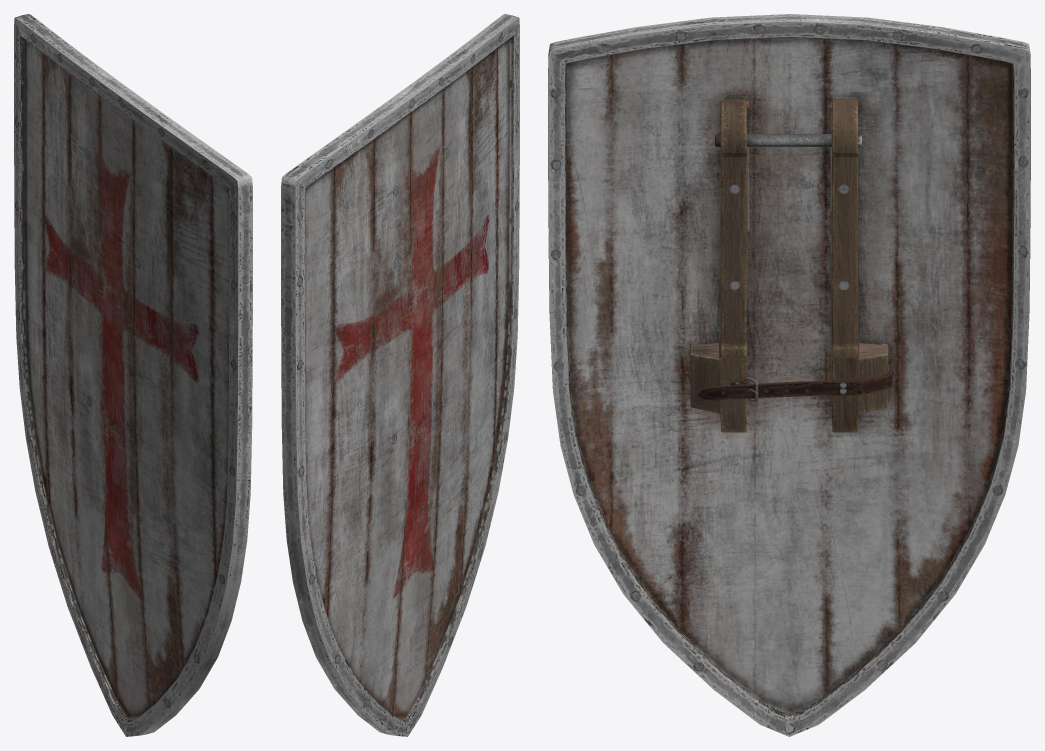
Rendered from Heater_Shield_01.fbx.
3 views of the same model, side by side, from view 1: azimuth 30°, elevation 25°; view 2: azimuth 150°, elevation 25°; view 3: azimuth 270°, elevation 25° (orthographic). The views are drawn at different scales.
Visible parts, largest first — view 1: Heater_Shield_01_LOD0; view 2: Heater_Shield_01_LOD0; view 3: Heater_Shield_01_LOD0.
Part boxes in pixels (x1,y1,x2,y2): Heater_Shield_01_LOD0: (14, 14, 252, 736); Heater_Shield_01_LOD0: (281, 14, 519, 736); Heater_Shield_01_LOD0: (548, 14, 1030, 736).
Size of what is drawn, in the model's own units: 7.26 by 85.57 by 53.08.
